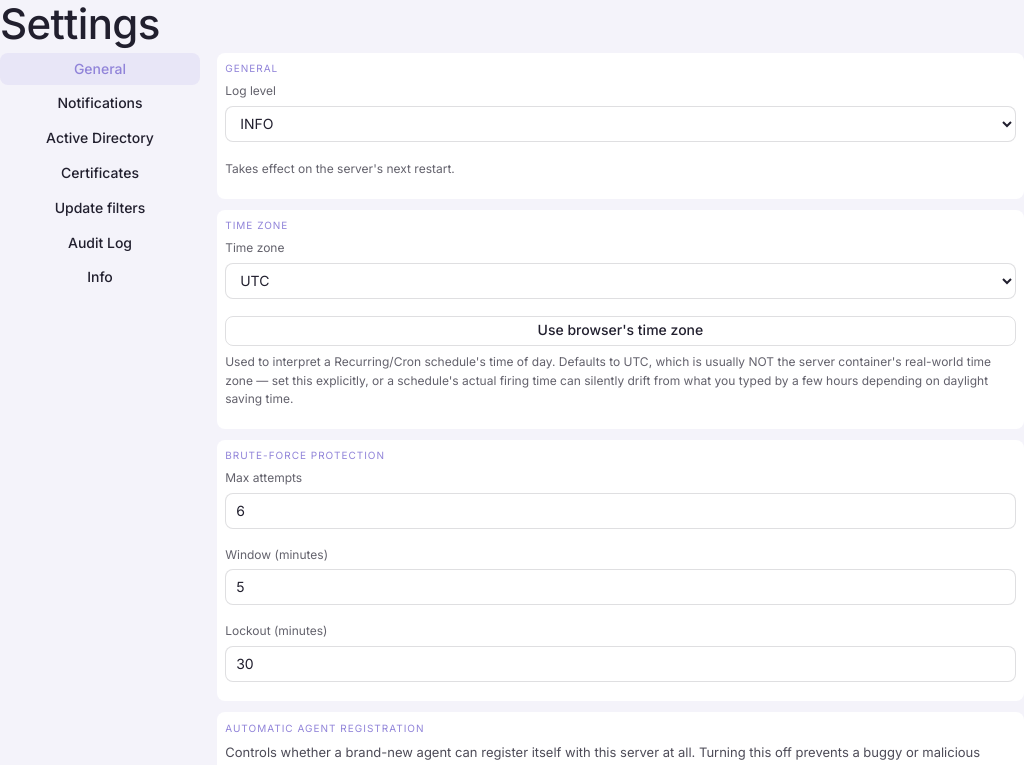
Test: AdminPage › switches to the Audit Log tab and shows entries from the API
This screenshot has width=1024, height=765.
Click the tab "Audit Log": (100, 243) 0,227 -> 200,259
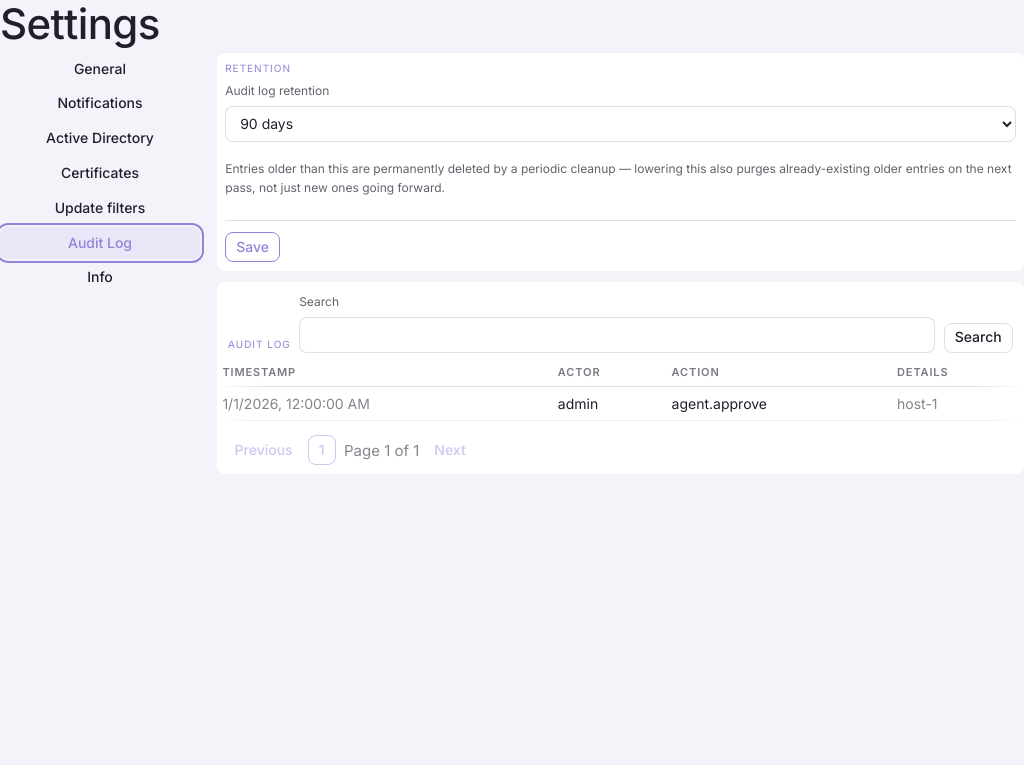
Check: the text "agent.approve" is shown, box 666,387 -> 891,421
